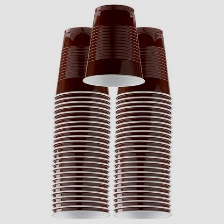glass: (41, 23, 113, 222), (111, 22, 172, 223), (80, 1, 147, 90)
